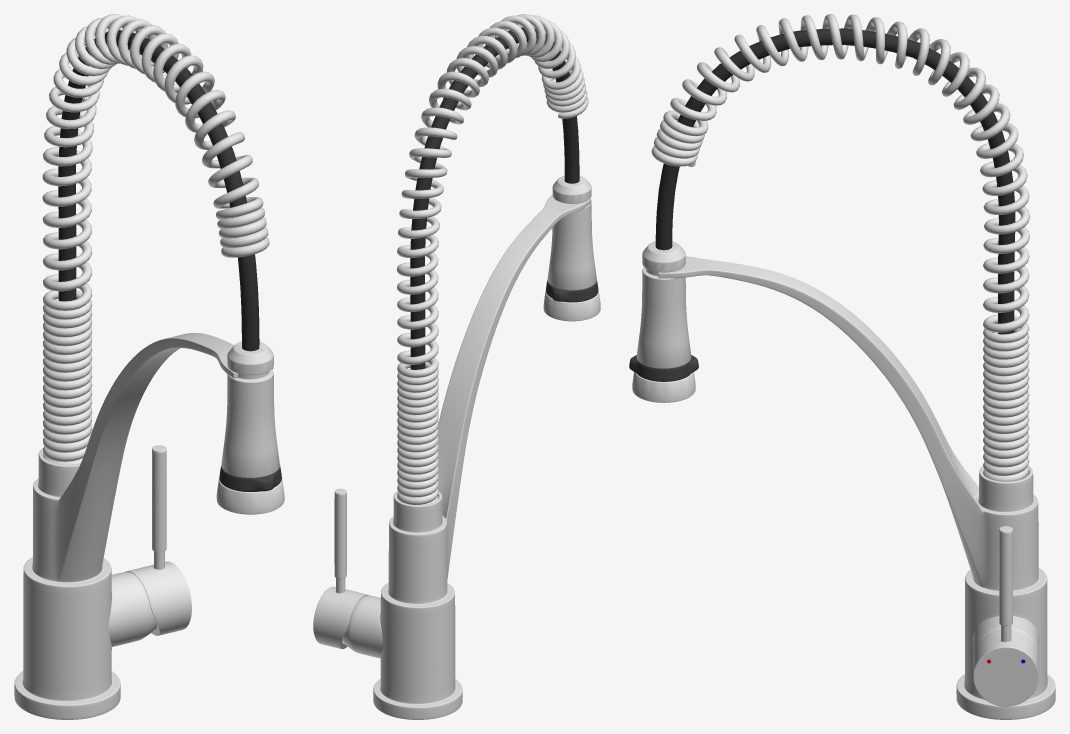
File: obj_kitchen_tap_ad281b.glb
3 views of the same model, side by side, from view 1: azimuth 30°, elevation 25°; view 2: azimuth 150°, elevation 25°; view 3: azimuth 270°, elevation 25° (orthographic). The views are drawn at different scales.
Visible parts, largest first — view 1: obj_kitchen_tap_ad281b; view 2: obj_kitchen_tap_ad281b; view 3: obj_kitchen_tap_ad281b.
Boxes of the visible parts, left/top/right/bottom form: obj_kitchen_tap_ad281b: left=14, top=14, right=284, bottom=719; obj_kitchen_tap_ad281b: left=313, top=14, right=600, bottom=719; obj_kitchen_tap_ad281b: left=629, top=14, right=1055, bottom=719.
Size of the model in its own units: 0.0547 by 0.25 by 0.1414.
7 materials, 1 textured.
